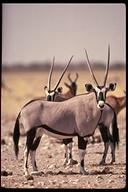antelope: (12, 42, 118, 176), (43, 54, 122, 167)
sky: (4, 6, 125, 44)
